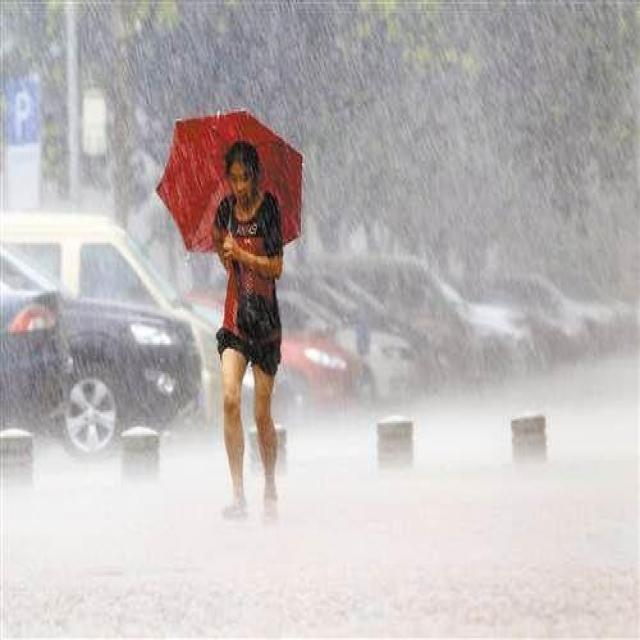car: (2, 208, 222, 434), (0, 246, 201, 456), (226, 282, 418, 399), (184, 286, 350, 406), (0, 284, 69, 426)
